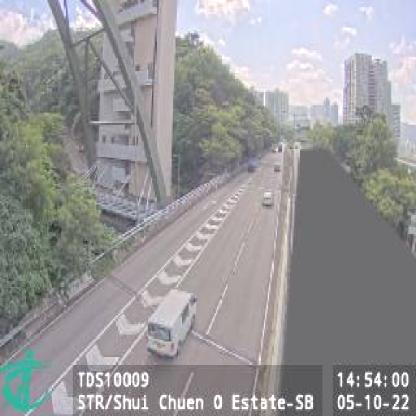Car: (147, 288, 195, 357), (261, 189, 272, 203)
